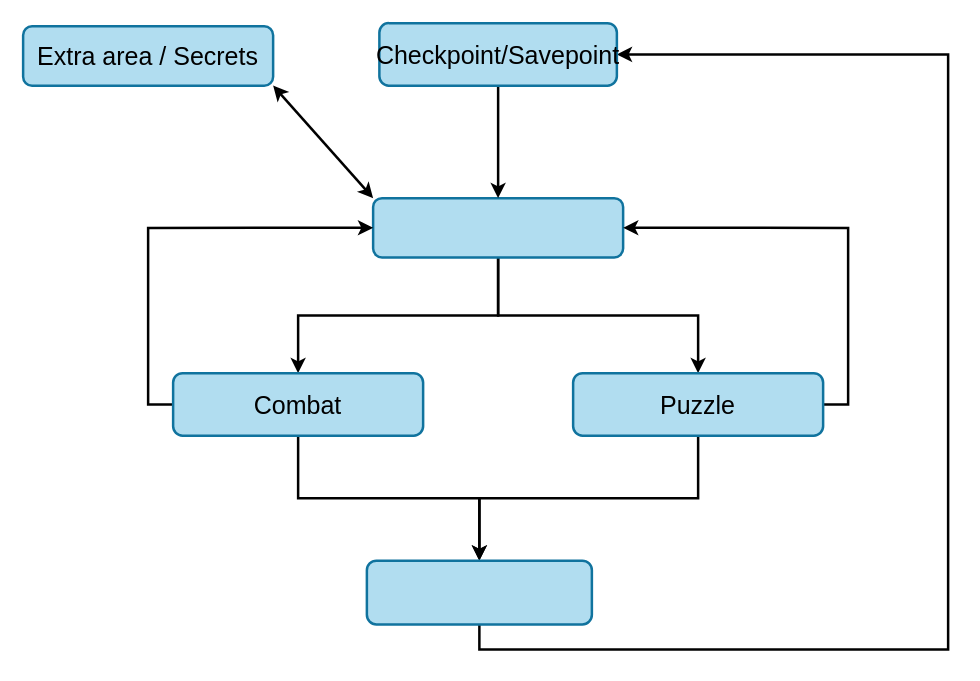
The diagram is 980 pixels wide and 681 high, and some of its shapes have lost their labels. Here are the shapes that lost their labels. From the top down, the box of each, then its label:
(371, 196, 624, 258): Exploration
(365, 559, 592, 625): Unlock new path
